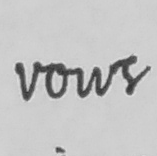o: (42, 59, 71, 101)
s: (119, 53, 141, 98)
v: (13, 59, 42, 102)
w: (73, 60, 117, 100)
